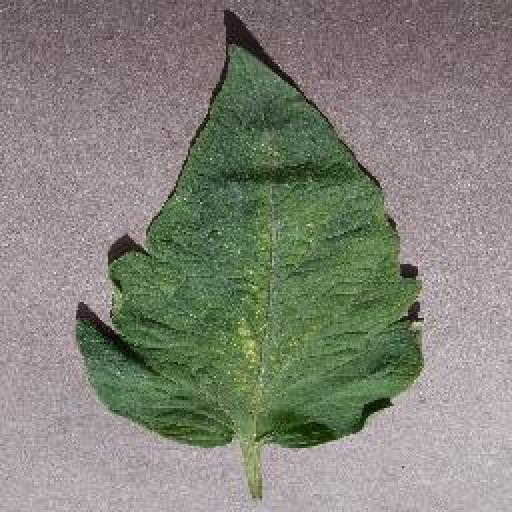disease_tomato: (76, 44, 427, 447)
